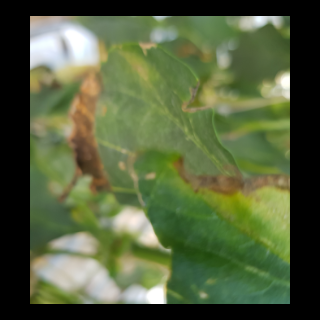graymold: (69, 79, 112, 190), (172, 154, 280, 193)
